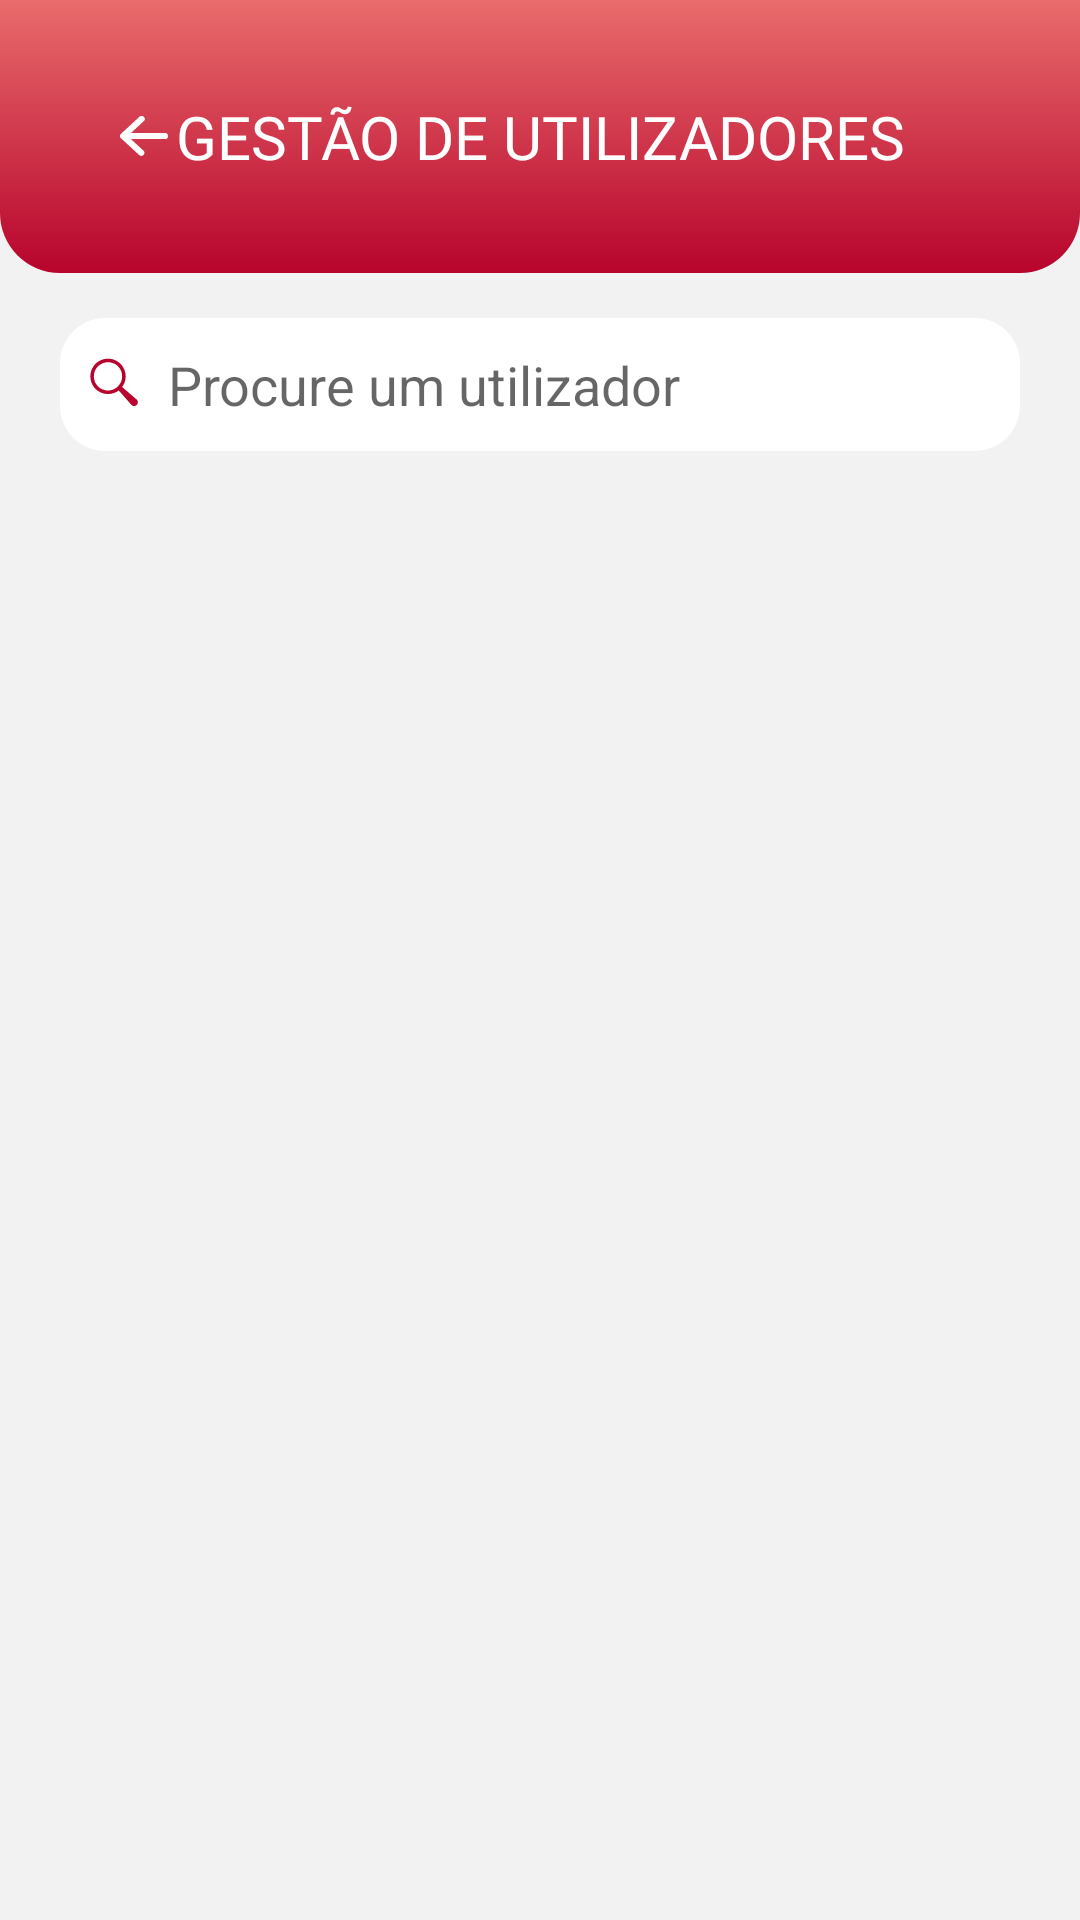

Named icons in this screenshot (1080x1920) and their centers, (x,y):
seta: (144,136)
